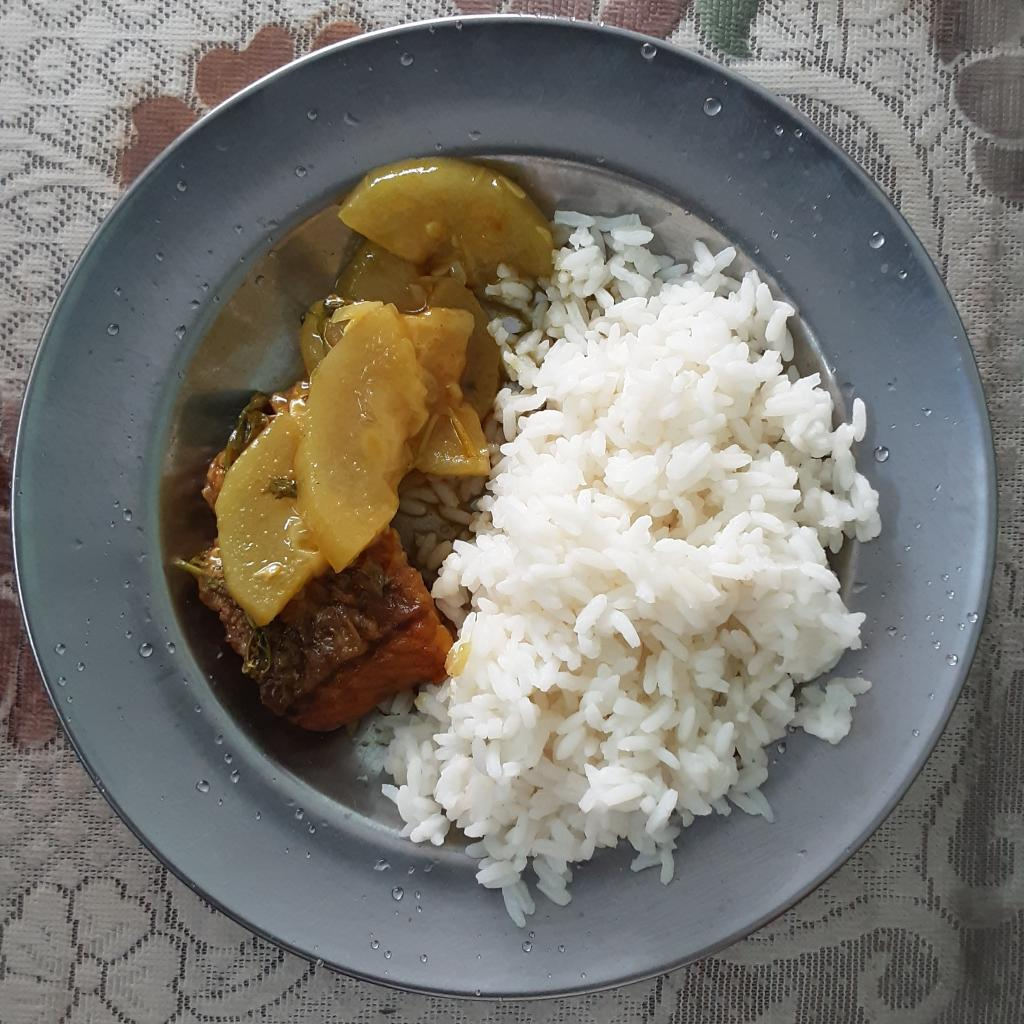fish: (189, 518, 451, 738), (200, 380, 306, 518)
lau: (219, 148, 555, 637)
rice: (370, 208, 881, 927)
